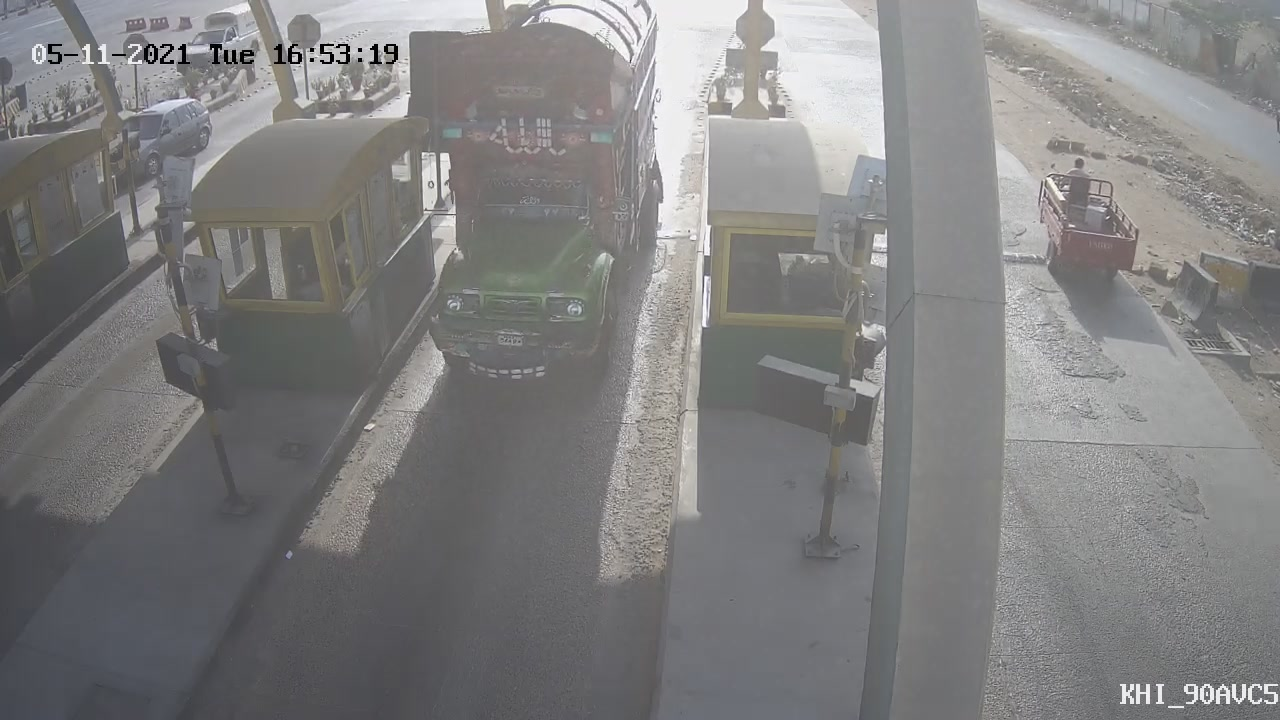F5: (412, 1, 690, 413)
